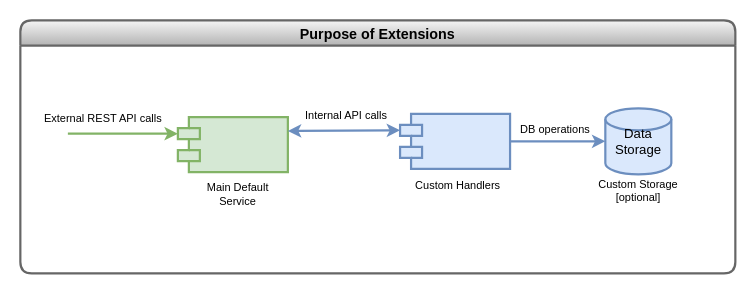
This 755x293 diagram has some shape labels left out. The shapes that lost their labels are listed below. From the top down, each one's box as (x1, y1, x2, y2) in pixels, then its label:
(176, 116, 288, 173): XYZ Hub Service
(398, 112, 511, 169): XYZ Extension Module
